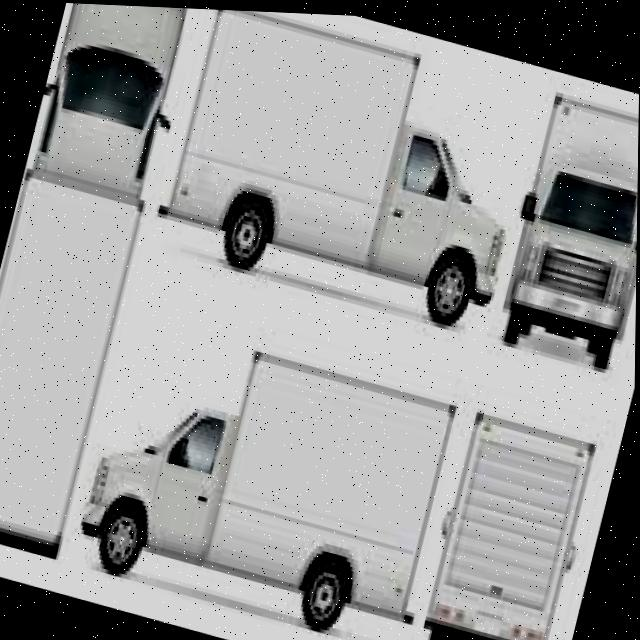truck: (0, 0, 194, 565)
